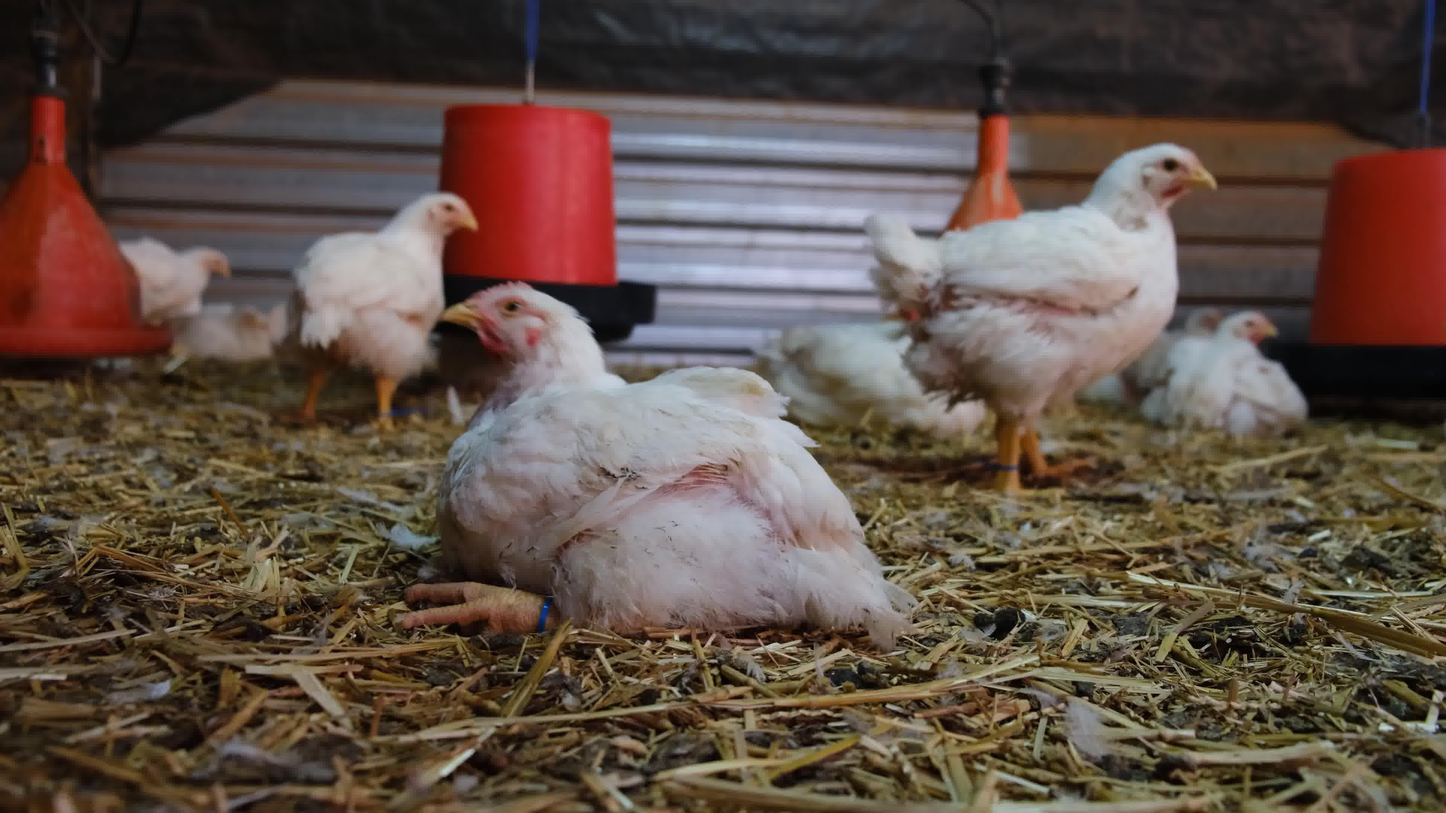AbNormal: (392, 282, 912, 648), (757, 317, 997, 435), (1158, 309, 1315, 431), (1112, 301, 1230, 404), (159, 300, 298, 372)
Normal: (856, 142, 1220, 502), (290, 189, 482, 440), (113, 239, 236, 324)
